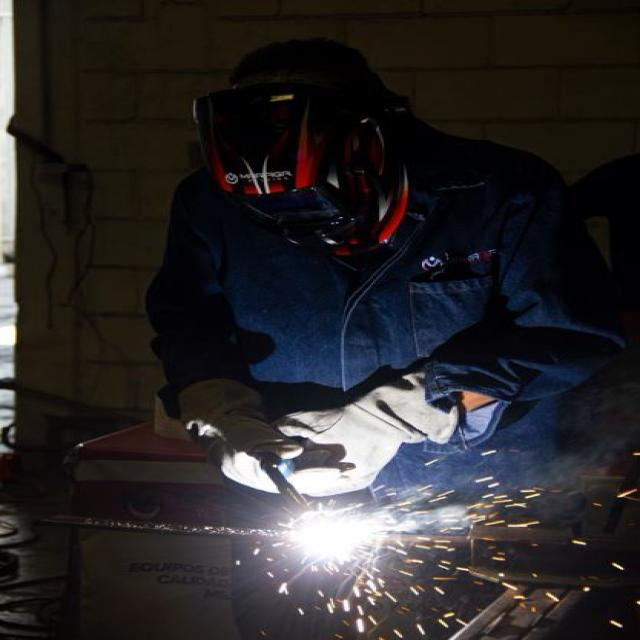welding: (287, 509, 371, 562)
